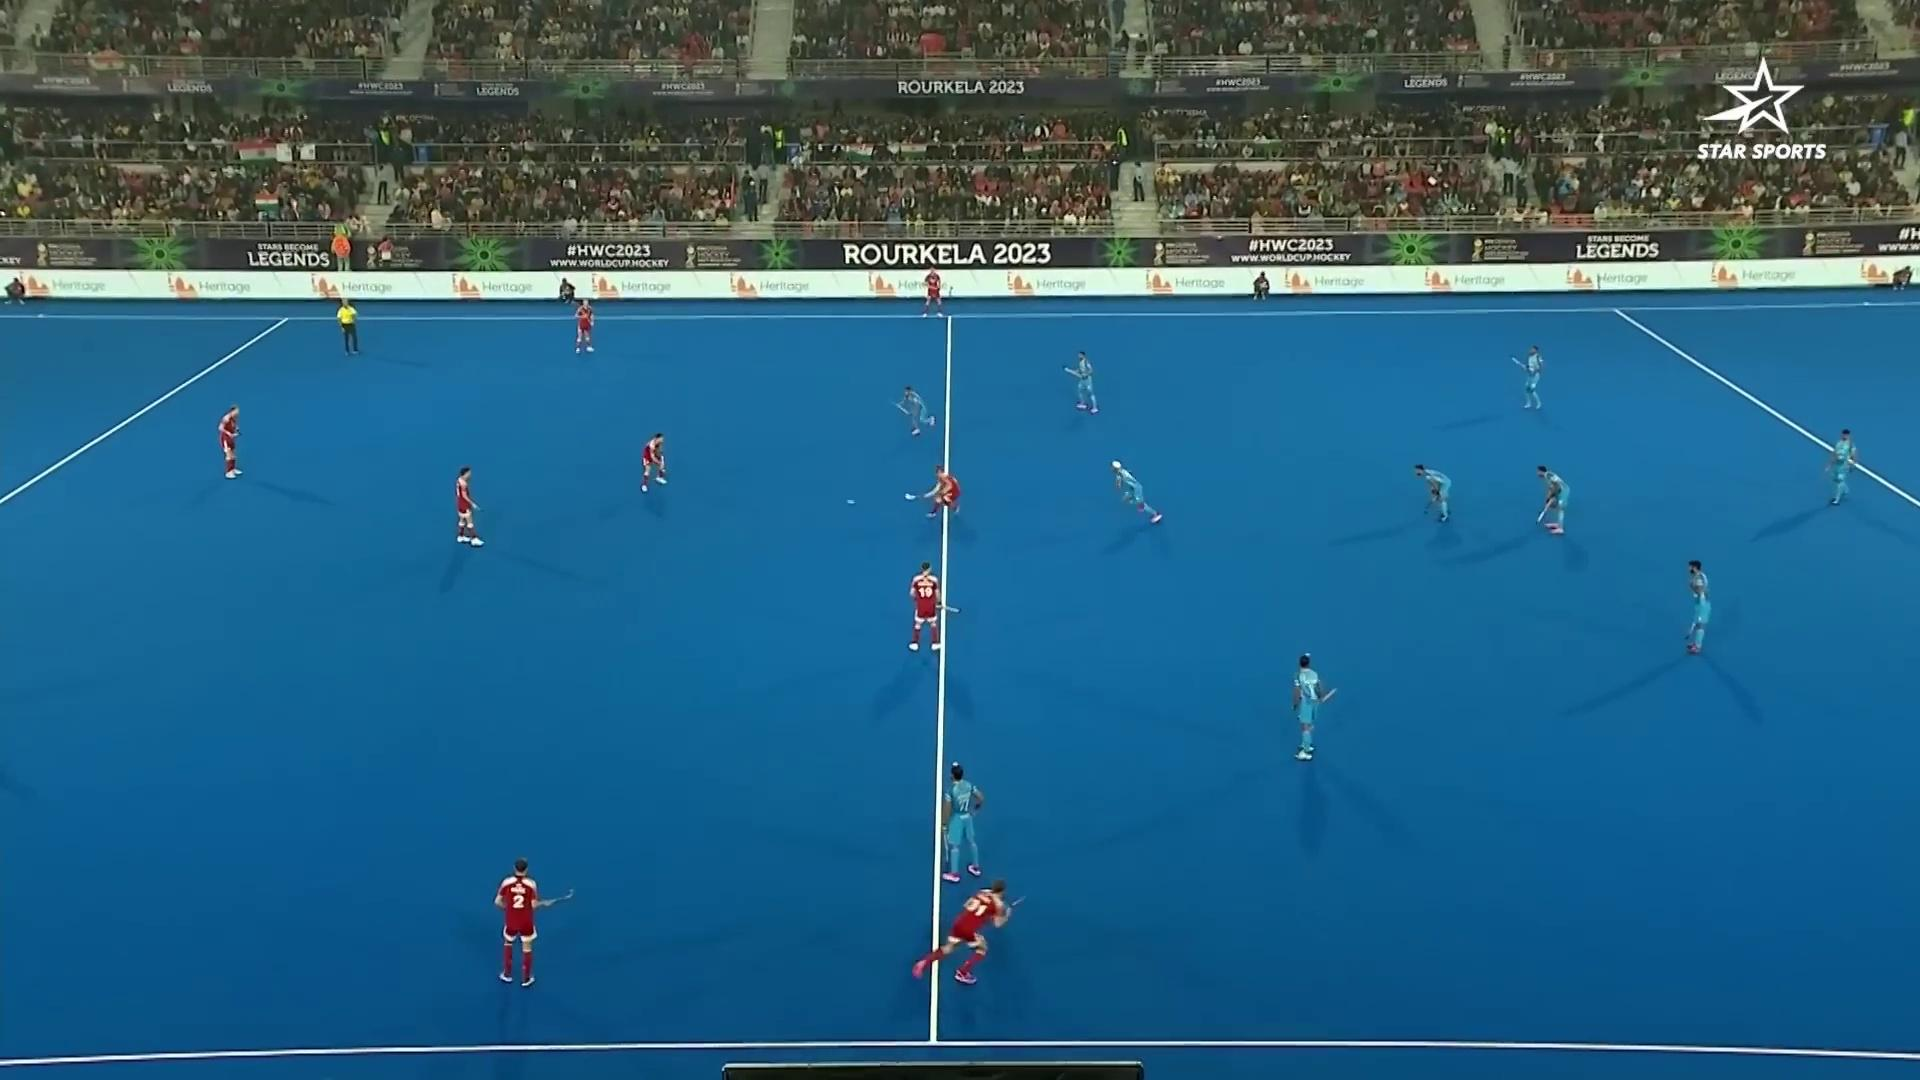ball: (843, 495, 861, 512)
